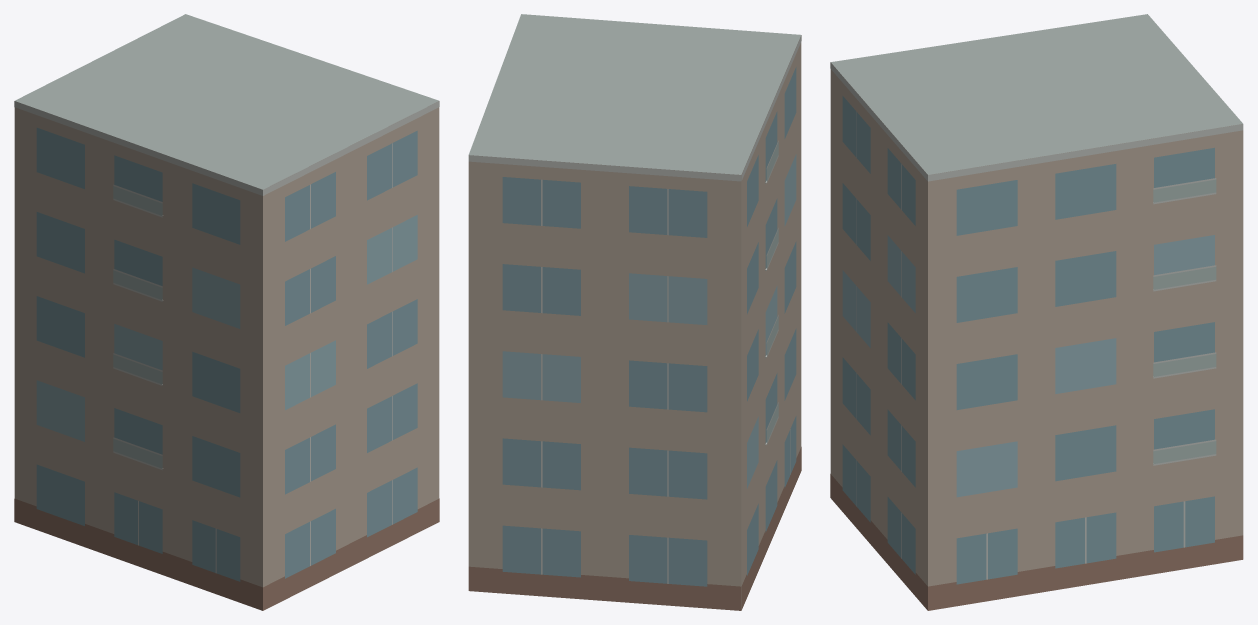
File: survey-upis-32857918.glb
3 renders of one model, left to right at view 1: azimuth 30°, elevation 25°; view 2: azimuth 150°, elevation 25°; view 3: azimuth 270°, elevation 25°, orthographic. The views are drawn at different scales.
Parts seen in each view (by area): view 1: survey-upis-32857918.tmp; view 2: survey-upis-32857918.tmp; view 3: survey-upis-32857918.tmp.
Part boxes in pixels (x1,y1,x2,y2): survey-upis-32857918.tmp: (14, 14, 439, 610); survey-upis-32857918.tmp: (468, 14, 801, 610); survey-upis-32857918.tmp: (830, 14, 1243, 610).
Bounding box in the file's own units: 12.93 × 16.3 × 14.
